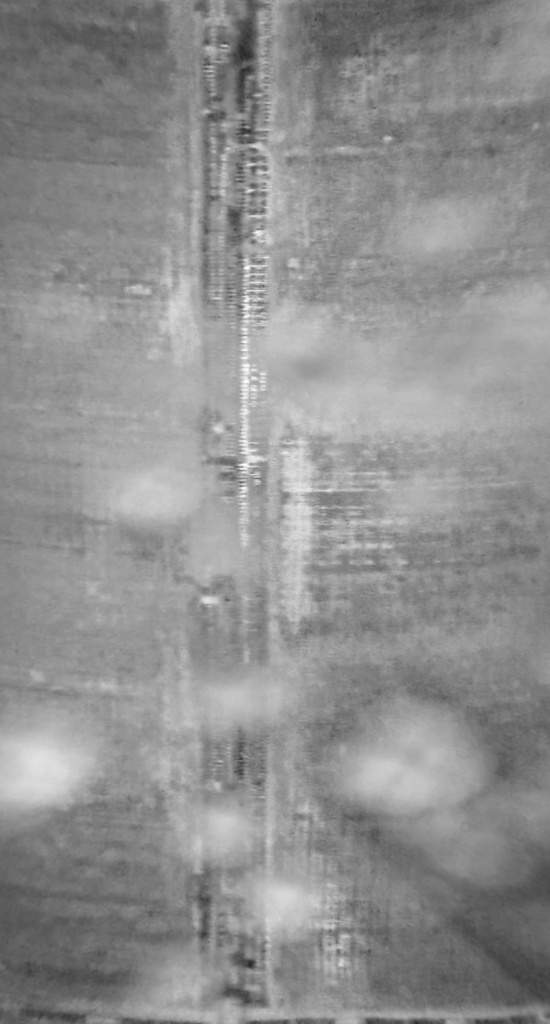splice: (179, 1, 276, 1022)
